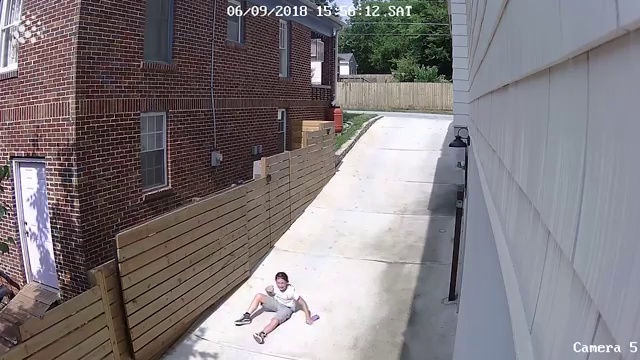face: (276, 280, 288, 291)
